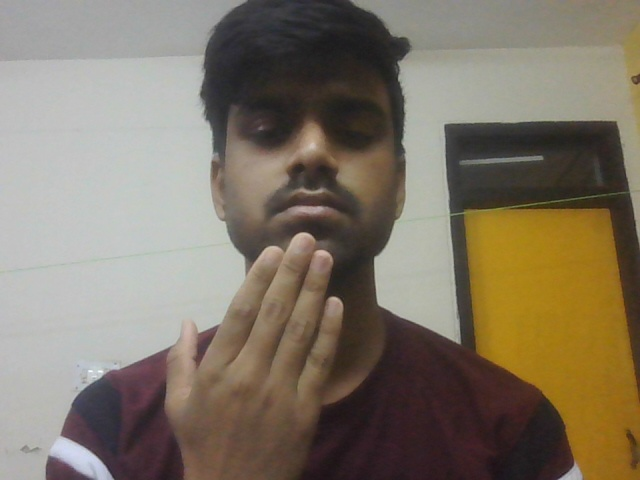thanks: (152, 220, 365, 480)
